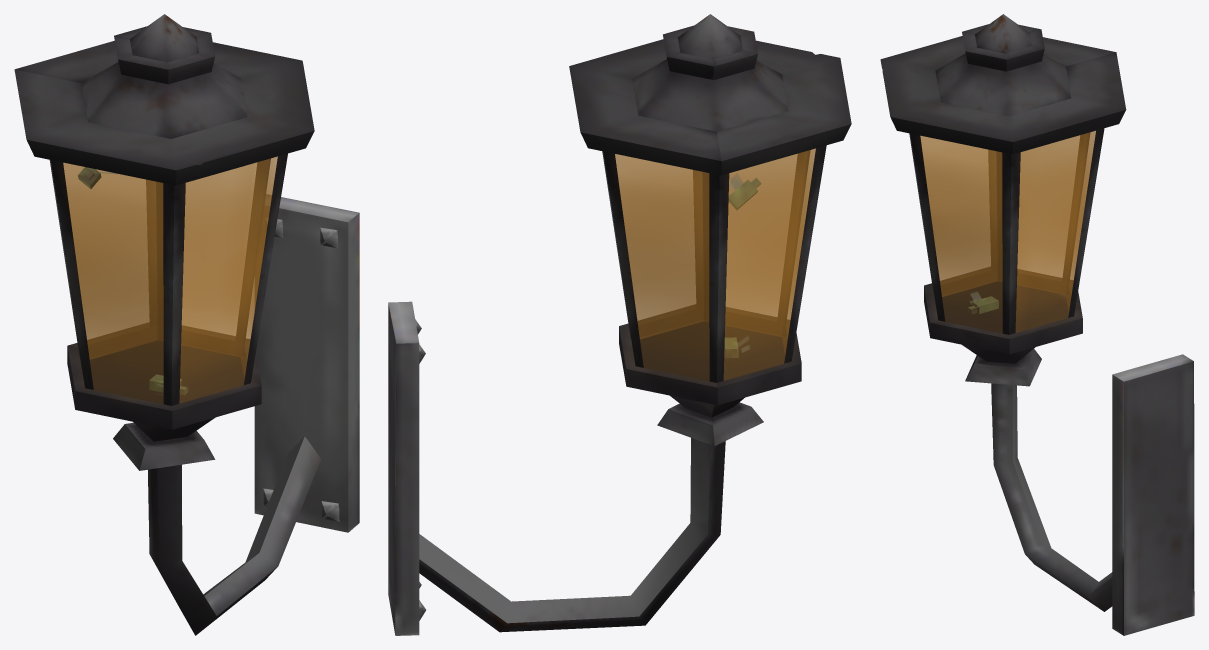
3 views of the same model, side by side, from view 1: azimuth 30°, elevation 25°; view 2: azimuth 150°, elevation 25°; view 3: azimuth 270°, elevation 25° (orthographic). The views are drawn at different scales.
Visible parts, largest first — view 1: lamp; view 2: lamp; view 3: lamp.
Part boxes in pixels (box(x1,y1,x2,y2)): lamp: box(14, 14, 359, 635); lamp: box(388, 14, 851, 635); lamp: box(880, 14, 1194, 635).
Size of the model in its own units: 0.0457 by 0.069 by 0.0368.
Materials: 1 (1 with a texture image).
